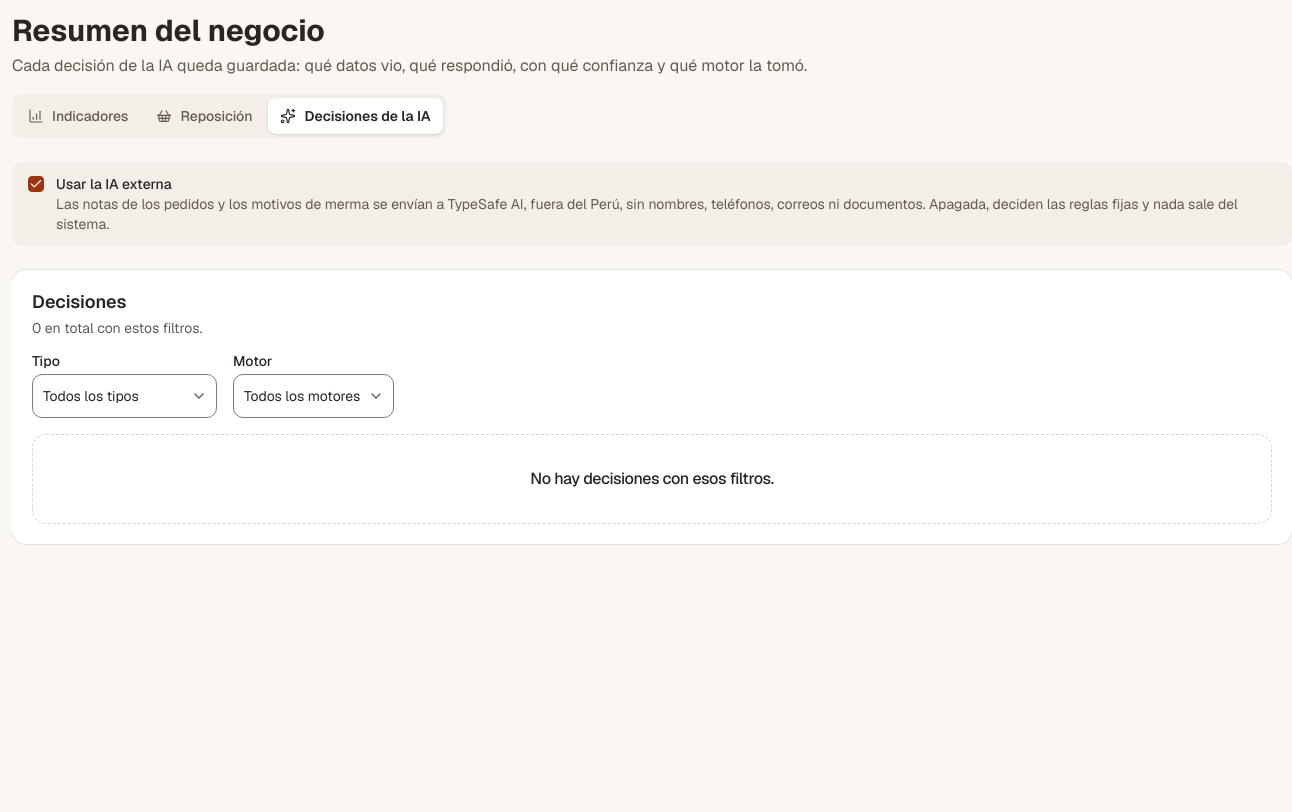
Test: AiAuditView: IA externa › el encargado la apaga y nada sale del sistema
Click the checkbox named "Usar la IA externa".
click(36, 184)  # box left=28, top=176, right=44, bottom=192
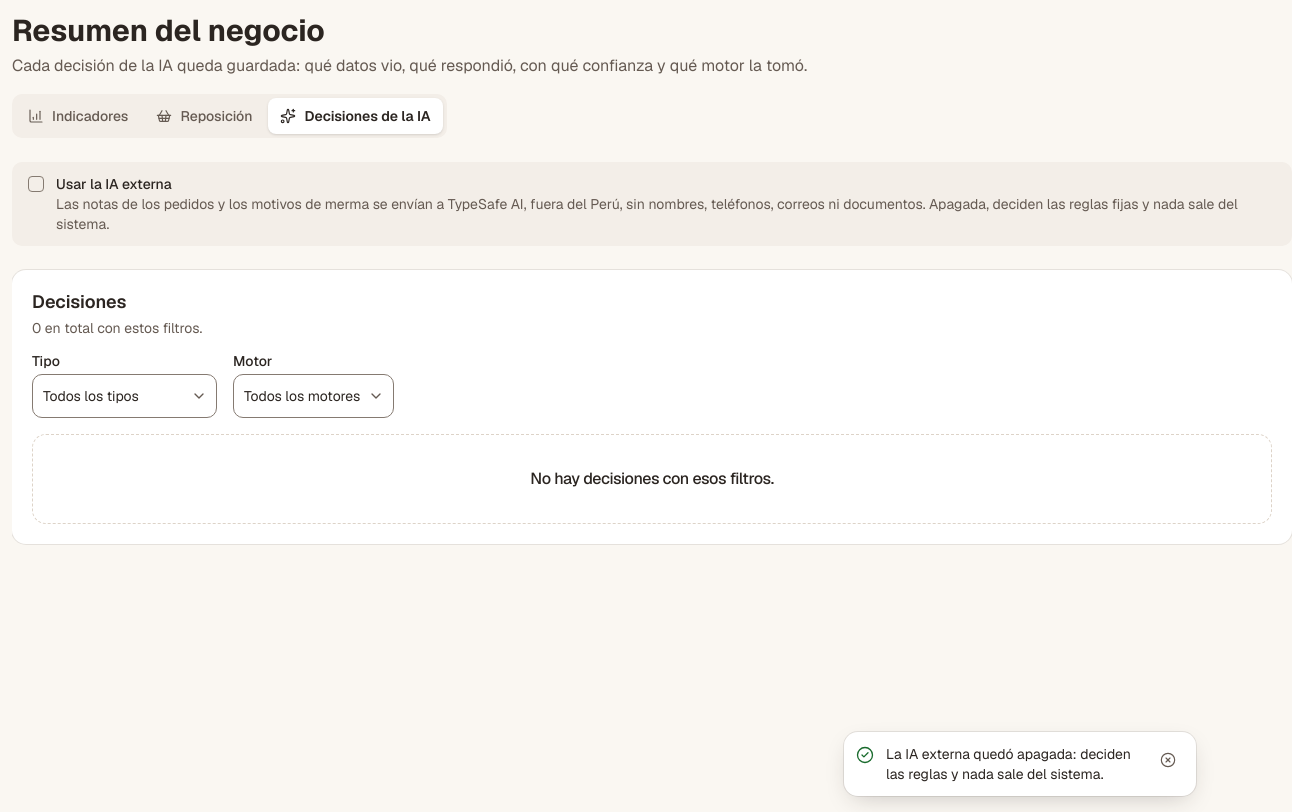
Expected: the text "La IA externa quedó apagada: deciden las reglas y nada sale del sistema." is shown, left=886, top=744, right=1140, bottom=784
